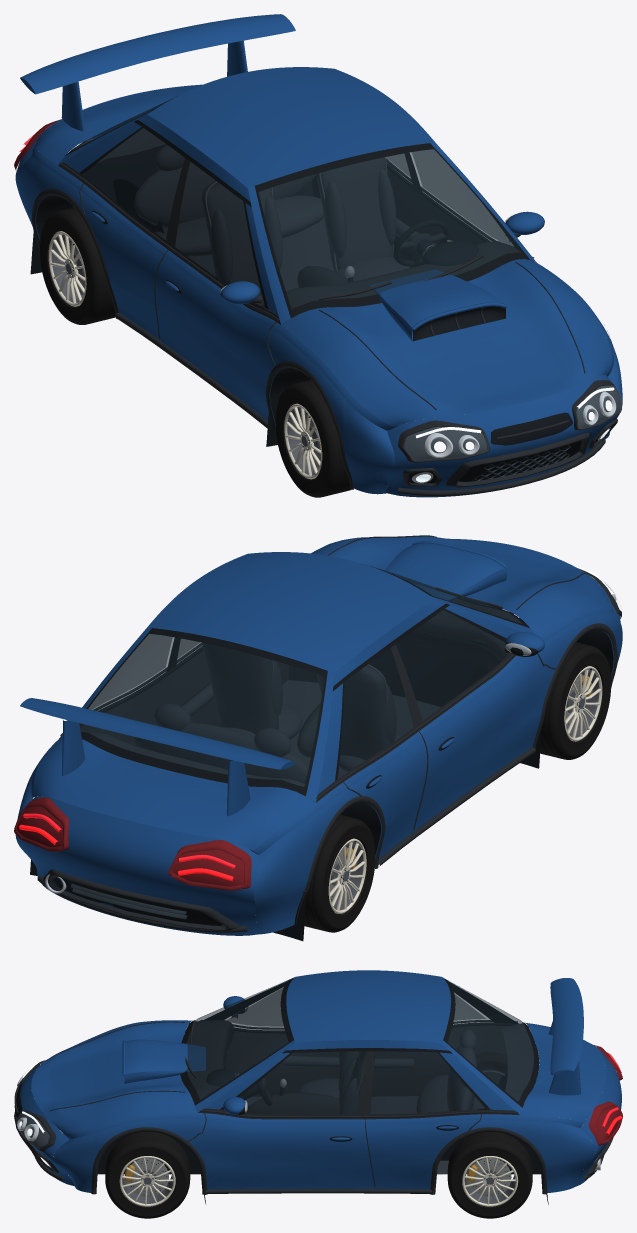
Rendered from rally.glb.
3 renders of one model, top to bottom at view 1: azimuth 30°, elevation 25°; view 2: azimuth 150°, elevation 25°; view 3: azimuth 270°, elevation 25°, orthographic. The views are drawn at different scales.
Visible parts, largest first — view 1: body_paint, body_glass, body_upholstery, body_satin_graphite, body_weatherstrip, right_wheel_tyre_rubber (×2), right_wheel_competition_white (×2), body_lamp_housing, right_wheel_cast_graphite (×2), body_polished_trim, body_light_head; view 2: body_paint, body_glass, body_upholstery, body_satin_graphite, body_weatherstrip, right_wheel_tyre_rubber (×2), body_ruby_lens, right_wheel_competition_white (×2), right_wheel_cast_graphite (×2), body_lamp_housing, body_light_brake; view 3: body_paint, body_glass, body_satin_graphite, body_upholstery, left_wheel_tyre_rubber (×2), body_weatherstrip, left_wheel_competition_white (×2), left_wheel_rotor_steel (×2), body_ruby_lens, left_wheel_cast_graphite (×2), right_wheel_tyre_rubber, body_lamp_housing (+1 smaller).
Boxes of the visible parts, <box> form: body_paint: <box>15,14,622,497</box>; body_glass: <box>73,100,521,308</box>; body_upholstery: <box>68,128,436,306</box>; body_satin_graphite: <box>31,158,621,496</box>; body_weatherstrip: <box>30,95,597,493</box>; right_wheel_tyre_rubber (×2): <box>39,207,351,497</box>; right_wheel_competition_white (×2): <box>48,231,322,479</box>; body_lamp_housing: <box>403,245,620,481</box>; right_wheel_cast_graphite (×2): <box>51,234,319,475</box>; body_polished_trim: <box>412,391,616,483</box>; body_light_head: <box>416,387,614,482</box>; body_paint: <box>15,536,622,935</box>; body_glass: <box>79,566,521,786</box>; body_upholstery: <box>89,643,440,802</box>; body_satin_graphite: <box>37,535,621,932</box>; body_weatherstrip: <box>30,566,613,941</box>; right_wheel_tyre_rubber (×2): <box>304,642,611,932</box>; body_ruby_lens: <box>14,797,251,890</box>; right_wheel_competition_white (×2): <box>328,666,602,913</box>; right_wheel_cast_graphite (×2): <box>330,669,599,910</box>; body_lamp_housing: <box>70,595,617,919</box>; body_light_brake: <box>19,824,233,881</box>; body_paint: <box>17,970,621,1192</box>; body_glass: <box>186,981,533,1114</box>; body_satin_graphite: <box>14,1014,613,1194</box>; body_upholstery: <box>245,1022,533,1174</box>; left_wheel_tyre_rubber (×2): <box>105,1132,532,1218</box>; body_weatherstrip: <box>14,978,548,1204</box>; left_wheel_competition_white (×2): <box>119,1156,518,1206</box>; left_wheel_rotor_steel (×2): <box>127,1158,511,1196</box>; body_ruby_lens: <box>588,1045,622,1145</box>; left_wheel_cast_graphite (×2): <box>122,1169,515,1203</box>; right_wheel_tyre_rubber: <box>475,1051,507,1073</box>; body_lamp_housing: <box>19,1072,237,1148</box>.
Bounding box in the file's own units: 2.05 × 1.47 × 4.66.
